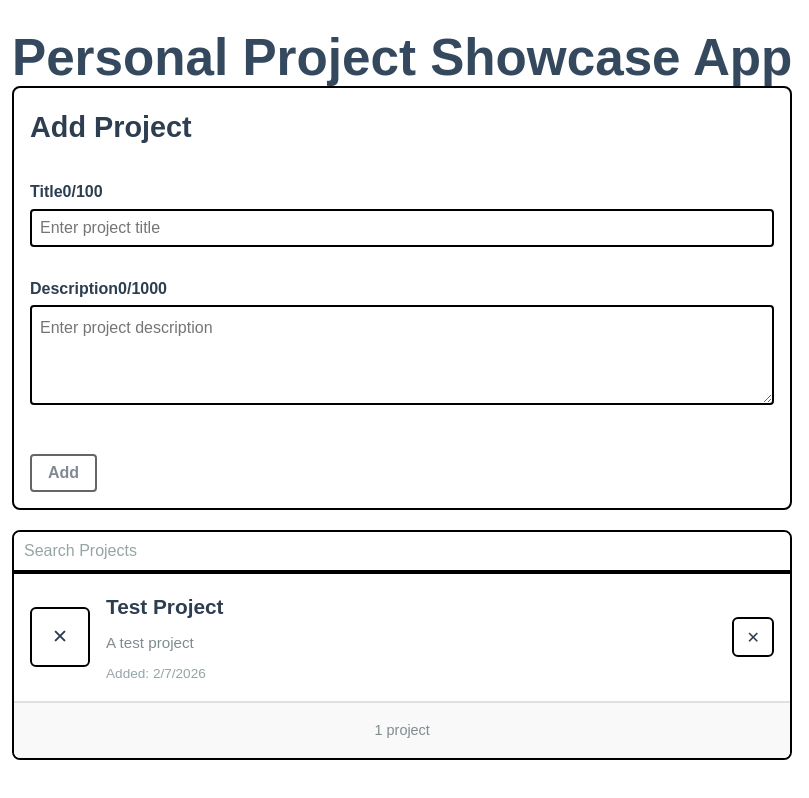
Test case: App Integration - User Workflows › allows user to delete a project
The width and height of the screenshot is (809, 798).
Check: the heading "Test Project" is shown, box [106,595,224,618]
// Find and click delete button
Click the button named "delete".
click(753, 637)  # box [732,617,774,657]
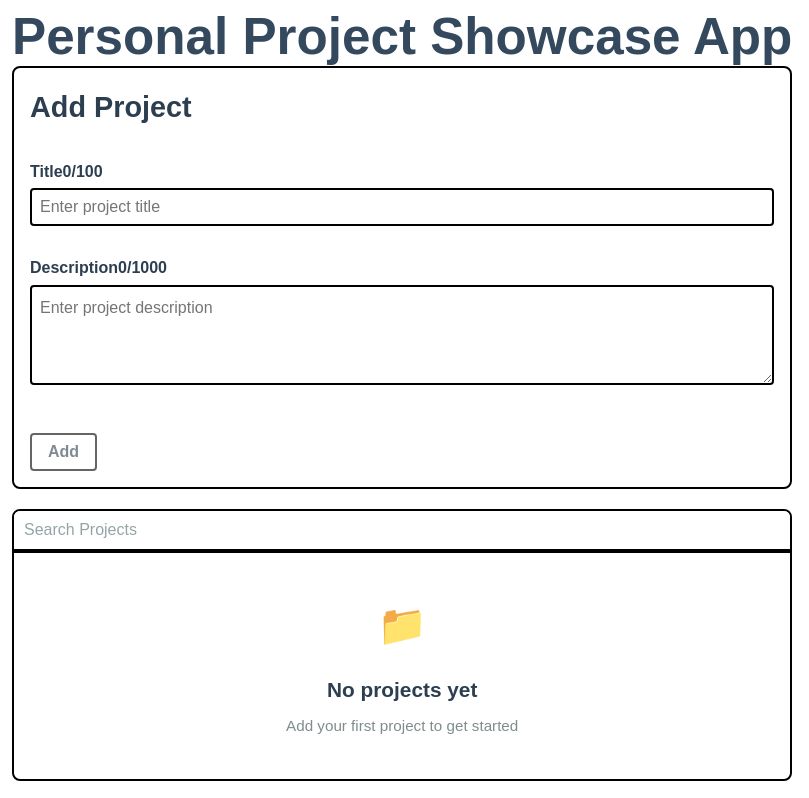
Check: the heading "Test Project" is gone
Check: the text "No projects yet" is shown, box [327,673,477,706]
